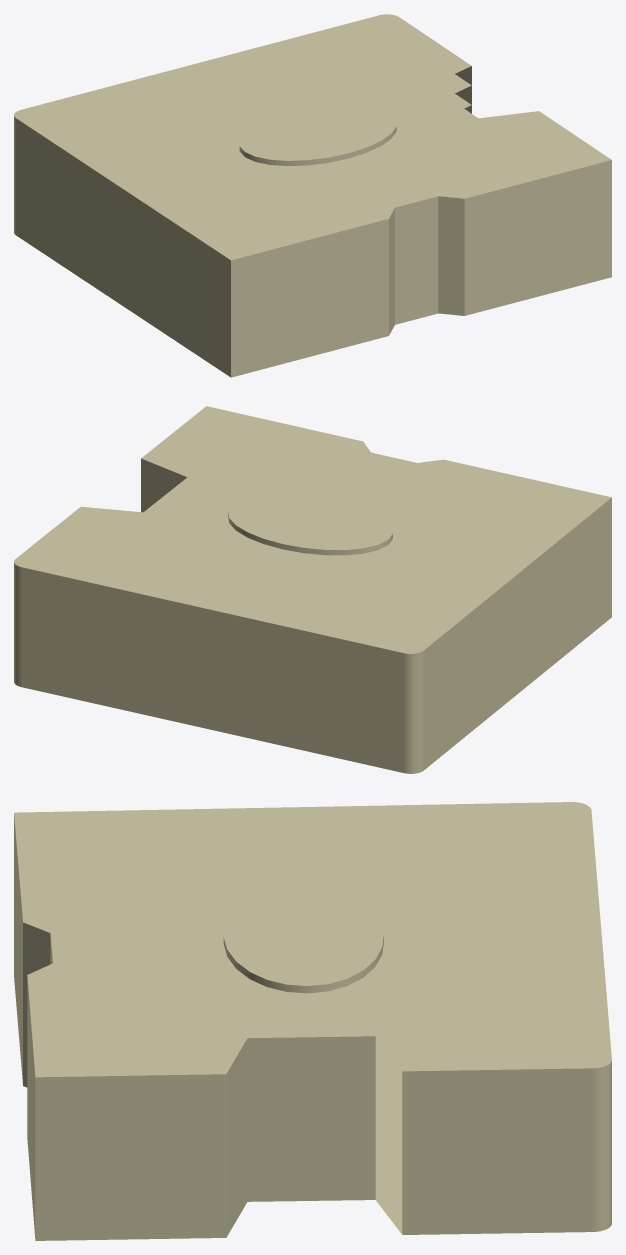
The model's file is SM_WhiteModel_10.FBX.
3 views of the same model, one above another, from view 1: azimuth 30°, elevation 25°; view 2: azimuth 150°, elevation 25°; view 3: azimuth 270°, elevation 25° (orthographic). The views are drawn at different scales.
Parts seen in each view (by area): view 1: SM_WhiteModel_10; view 2: SM_WhiteModel_10; view 3: SM_WhiteModel_10.
Part boxes in pixels (x1=…): SM_WhiteModel_10: x1=14, y1=14, x2=611, y2=377; SM_WhiteModel_10: x1=14, y1=406, x2=611, y2=773; SM_WhiteModel_10: x1=14, y1=802, x2=611, y2=1240.
Size of the model in its own units: 9738 by 8940 by 3270.
